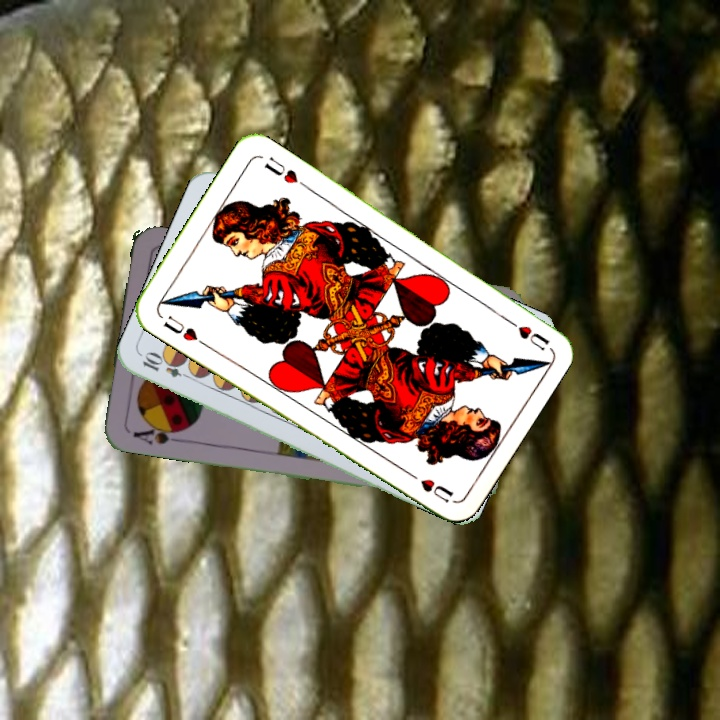E10: (138, 350, 196, 383)
HU: (499, 312, 552, 353), (159, 311, 200, 344)
SA: (129, 419, 187, 448)
